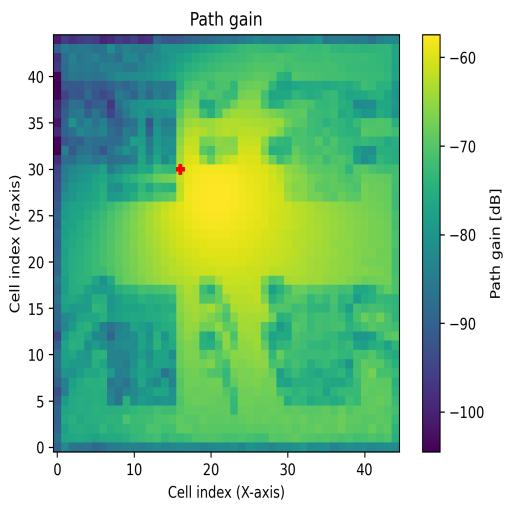Concrete: (283, 82, 362, 202)
Glass: (100, 80, 176, 202)
Metal: (277, 284, 362, 405)
Wood: (93, 285, 176, 407)
